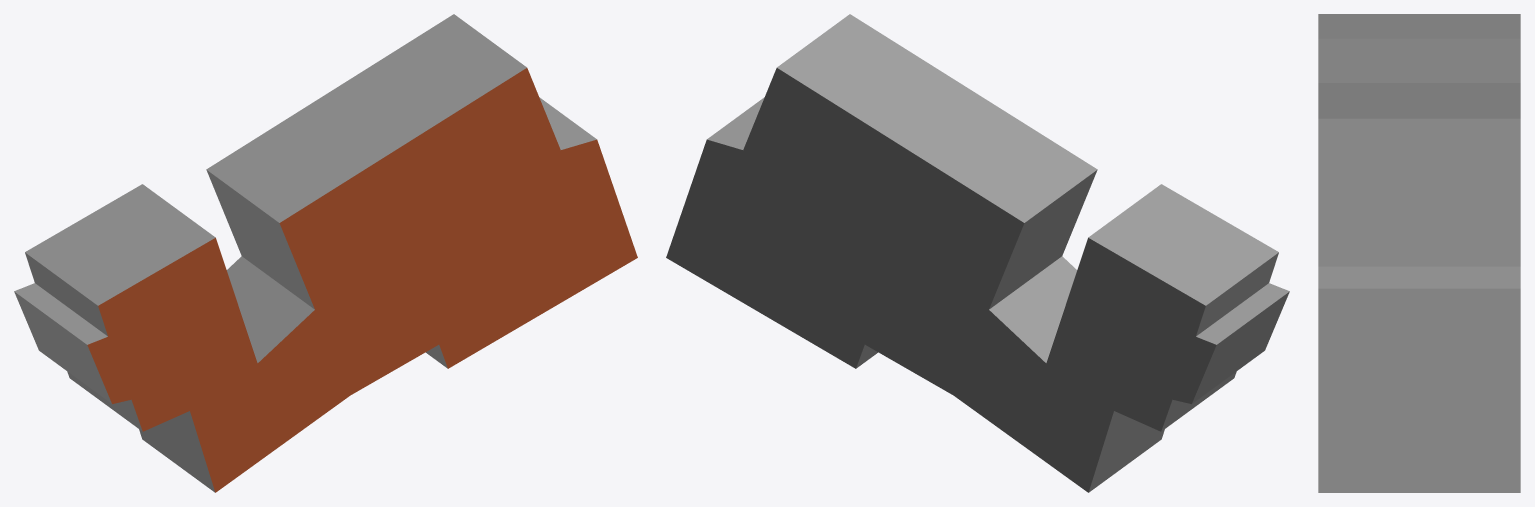
Rendered from construction_2267_assumed_A_Casa_h6m.obj.
3 renders of one model, left to right at view 1: azimuth 30°, elevation 25°; view 2: azimuth 150°, elevation 25°; view 3: azimuth 270°, elevation 25°, orthographic. The views are drawn at different scales.
Visible parts, largest first — view 1: construction_2267_assumed_A_Casa; view 2: construction_2267_assumed_A_Casa; view 3: construction_2267_assumed_A_Casa.
Part boxes in pixels (left/top/right/bottom): construction_2267_assumed_A_Casa: left=14, top=14, right=637, bottom=492; construction_2267_assumed_A_Casa: left=666, top=14, right=1289, bottom=492; construction_2267_assumed_A_Casa: left=1318, top=14, right=1520, bottom=492.
Bounding box in the file's own units: 26.04 × 15.78 × 6.
